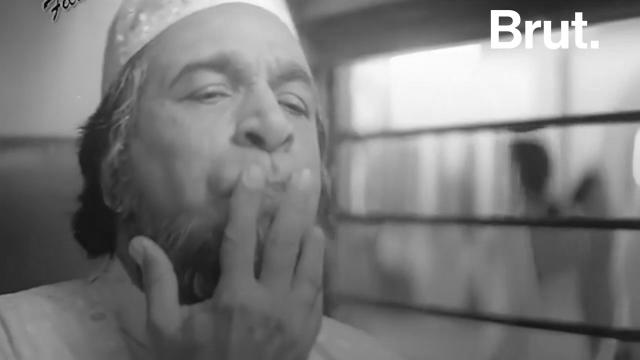spit: (192, 102, 464, 352)
